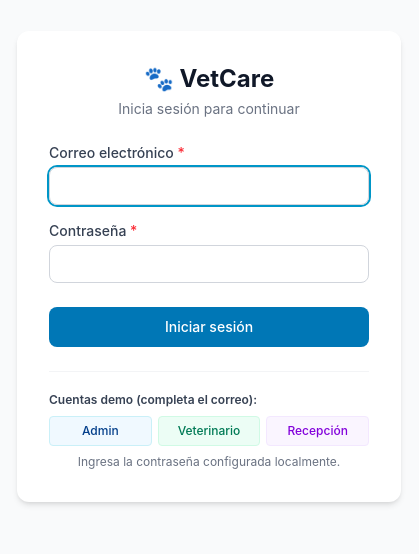
Test: LoginPage › muestra mensaje de error claro ante credenciales incorrectas (401) sin romper el formulario
The image size is (419, 554).
Type "invalido@veterinaria.com" into the field labelled "Correo electrónico *" at point(209, 186), box [49,166,369,204]
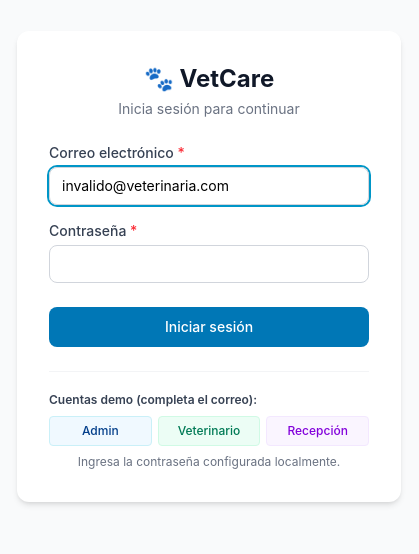
Type "WrongPass123!" into the password field labelled "Contraseña *" at point(209, 264), box [49,244,369,282]
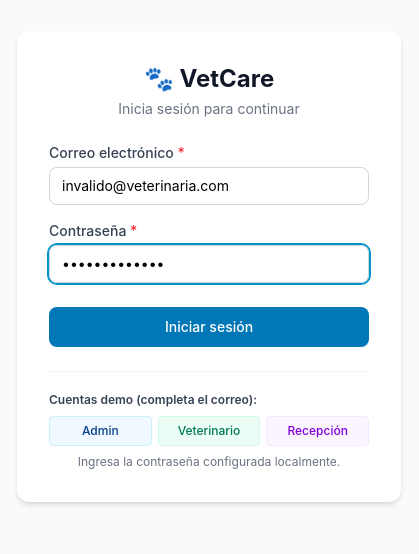
Click the button "Iniciar sesión" at point(209, 326), box [49,306,369,346]
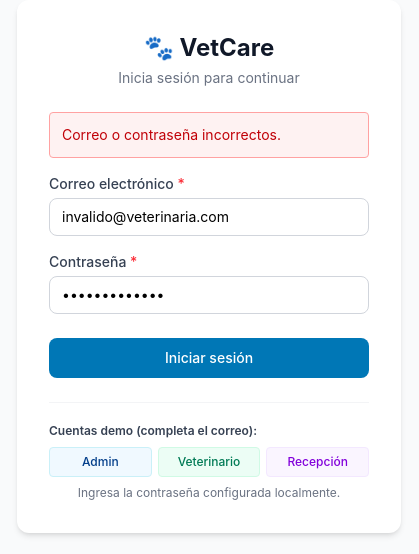
Expected: the message "Correo o contraseña incorrectos." is shown, [49,112,369,158]
Expected: the message shows "incorrectos", [62,126,281,142]
